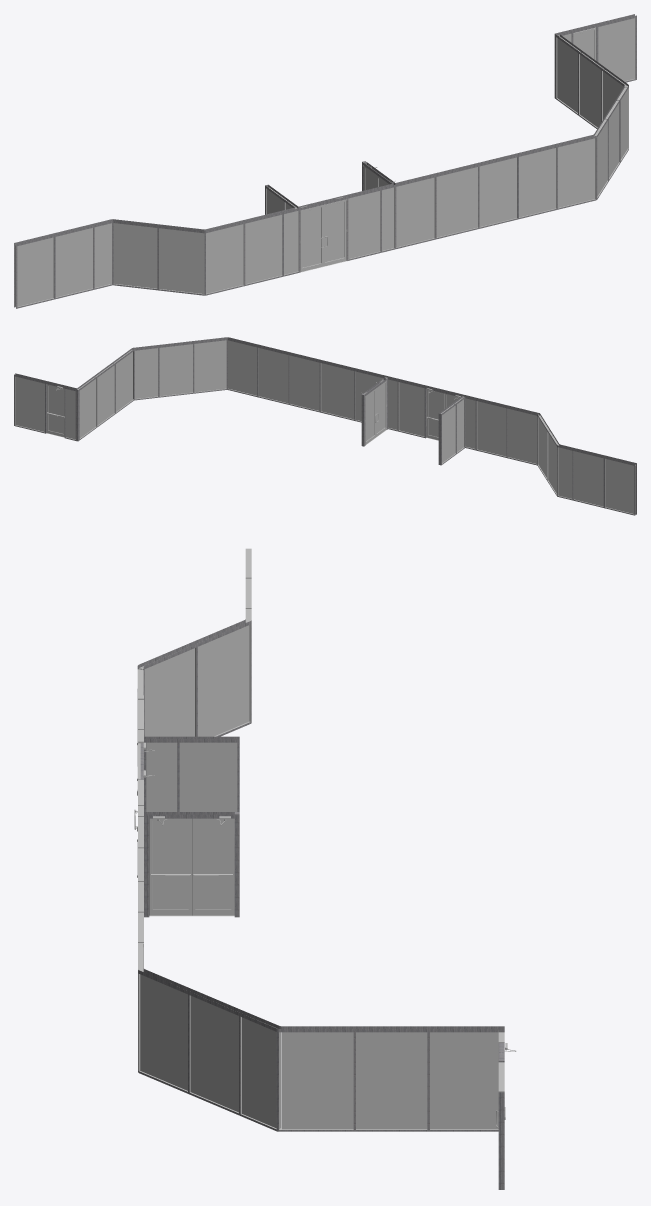
Rendered from env_cscWindows.FBX.
The picture shows the model from 3 angles, top to bottom: view 1: azimuth 30°, elevation 25°; view 2: azimuth 150°, elevation 25°; view 3: azimuth 270°, elevation 25°; orthographic projection. The views are drawn at different scales.
Visible parts, largest first — view 1: env_cscWindows; view 2: env_cscWindows; view 3: env_cscWindows.
Part boxes in pixels (x1,y1,x2,y2): env_cscWindows: (14,14,636,308); env_cscWindows: (14,337,636,515); env_cscWindows: (134,548,516,1189).
Size of the model in its own units: 27.68 by 2.44 by 8.19.
